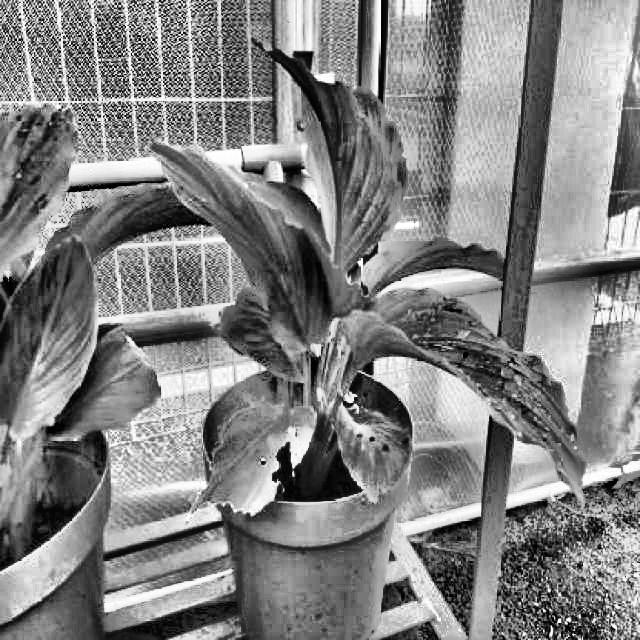plants: (149, 44, 588, 520), (0, 98, 228, 534)
